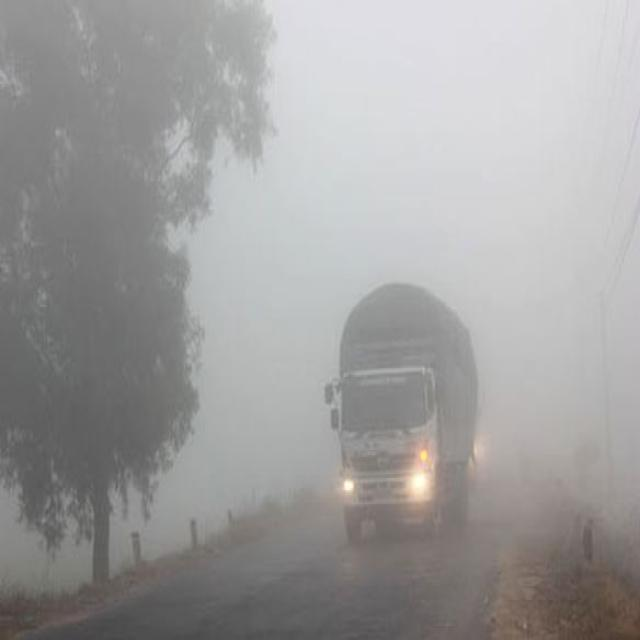Truck: (321, 279, 481, 535)
